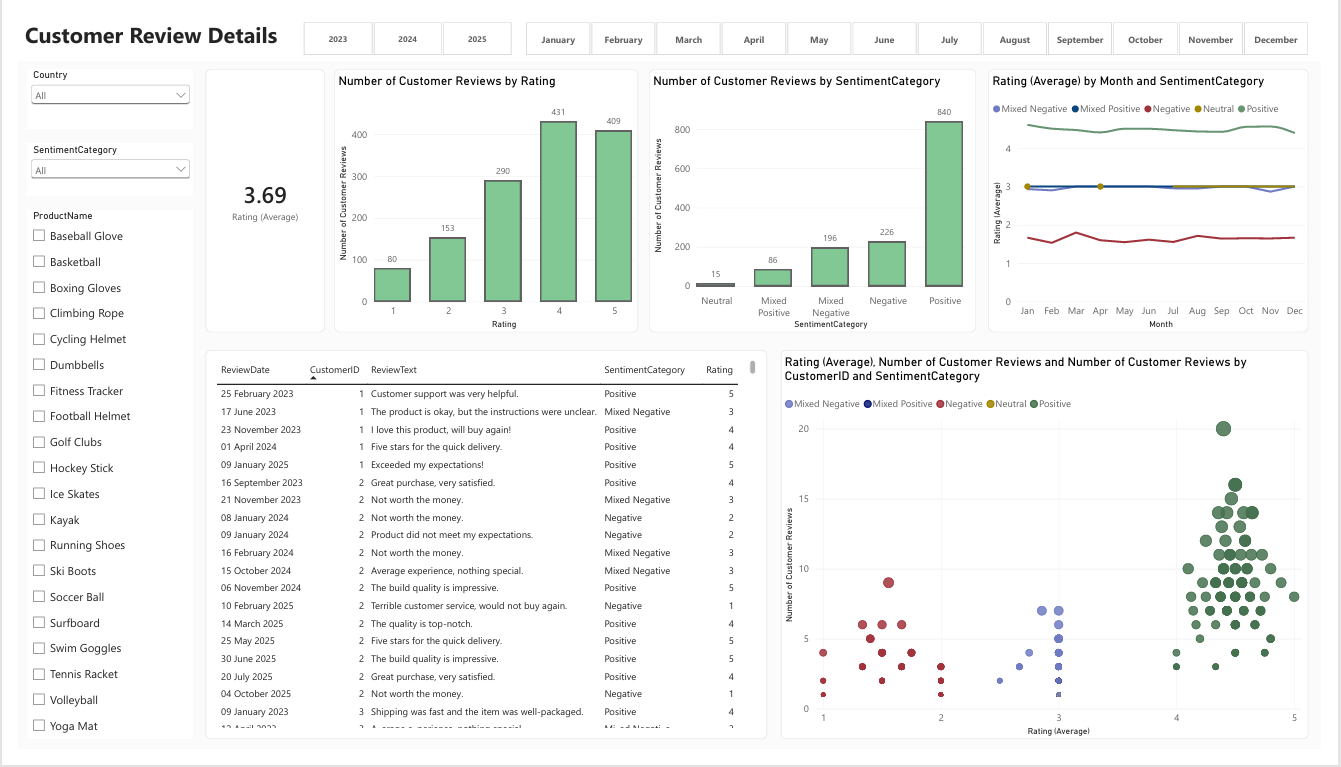

This screenshot's page, from the dashboard's own definition file:
{"tool":"powerbi","page":{"name":"Customer Review Details","canvas":[1920,1080],"ordinal":3},"visuals":[{"type":"textbox","box":[0,0,1920,65],"z":0},{"type":"slicer","fields":{"Values":["Calendar.Date.Variation.Date Hierarchy.Month"]},"box":[728.3,6.7,1192,52],"z":1002},{"type":"slicer","fields":{"Values":["Calendar.Year"]},"box":[400,6.7,346,52],"z":1003},{"type":"slicer","fields":{"Values":["dim_products.ProductName"]},"box":[14,286,244,780],"z":1004},{"type":"card","fields":{"Values":["_Calculations.Rating (Average)"]},"box":[276,78,176,388],"z":1005},{"type":"lineChart","title":"Rating (Average) by Month and SentimentCategory","fields":{"Category":["Calendar.MonthNameShort"],"Series":["fact_customer_reviews_with_sentiment.SentimentCategory"],"Y":["_Calculations.Rating (Average)"]},"box":[1430,78,472,388],"z":1006},{"type":"tableEx","fields":{"Values":["fact_customer_reviews_with_sentiment.ReviewDate","fact_customer_reviews_with_sentiment.CustomerID","fact_customer_reviews_with_sentiment.ReviewText","fact_customer_reviews_with_sentiment.SentimentCategory","fact_customer_reviews_with_sentiment.Rating"]},"box":[276,492,828,574],"z":1007},{"type":"columnChart","fields":{"Category":["fact_customer_reviews_with_sentiment.Rating"],"Y":["_Calculations.Number of Customer Reviews"]},"box":[466,78,448,388],"z":1008},{"type":"columnChart","fields":{"Category":["fact_customer_reviews_with_sentiment.SentimentCategory"],"Y":["_Calculations.Number of Customer Reviews"]},"box":[930,78,482,388],"z":1009},{"type":"slicer","fields":{"Values":["dim_customers.Country"]},"box":[14,78,244,88],"z":1010},{"type":"slicer","fields":{"Values":["fact_customer_reviews_with_sentiment.SentimentCategory"]},"box":[14,188,244,78],"z":1011},{"type":"scatterChart","fields":{"Category":["dim_customers.CustomerID"],"Series":["fact_customer_reviews_with_sentiment.SentimentCategory"],"Size":["_Calculations.Number of Customer Reviews"],"X":["_Calculations.Rating (Average)"],"Y":["_Calculations.Number of Customer Reviews"]},"box":[1124,492,778,574],"z":1012}]}

Visuals, with their boxes in screenshot pixels (x1, y1, x2, y2), scaled from the page's 1920x1080 canvas onto the 1341x767 screenshot:
textbox: 0/0/1340/46
slicer - Calendar.Date.Variation.Date Hierarchy.Month: 509/5/1340/42
slicer - Calendar.Year: 279/5/521/42
slicer - dim_products.ProductName: 10/203/180/757
card - _Calculations.Rating (Average): 193/55/316/331
"Rating (Average) by Month and SentimentCategory" lineChart: 999/55/1328/331
tableEx - fact_customer_reviews_with_sentiment.ReviewDate x fact_customer_reviews_with_sentiment.CustomerID: 193/349/771/757
columnChart - fact_customer_reviews_with_sentiment.Rating x _Calculations.Number of Customer Reviews: 325/55/638/331
columnChart - fact_customer_reviews_with_sentiment.SentimentCategory x _Calculations.Number of Customer Reviews: 650/55/986/331
slicer - dim_customers.Country: 10/55/180/118
slicer - fact_customer_reviews_with_sentiment.SentimentCategory: 10/134/180/189
scatterChart - dim_customers.CustomerID x fact_customer_reviews_with_sentiment.SentimentCategory: 785/349/1328/757
